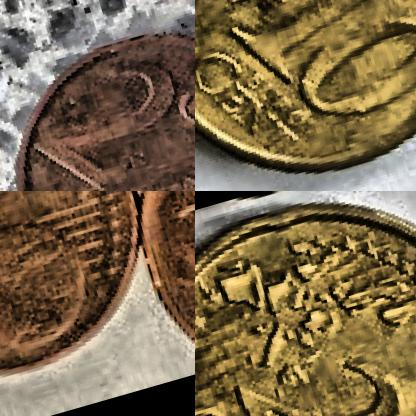coin: (195, 191, 415, 415), (195, 0, 415, 190), (0, 191, 177, 411), (0, 0, 194, 190)
